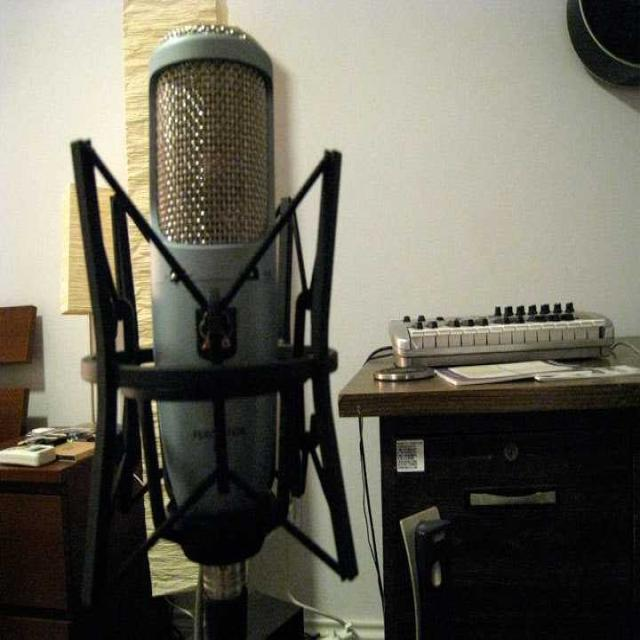microphone: (146, 32, 282, 570)
